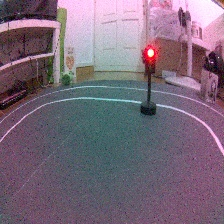red: (137, 45, 161, 120)
